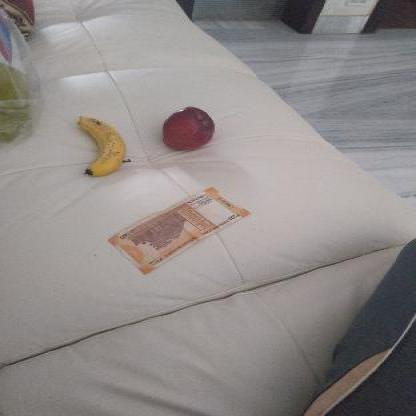New200Back: (107, 187, 253, 276)
